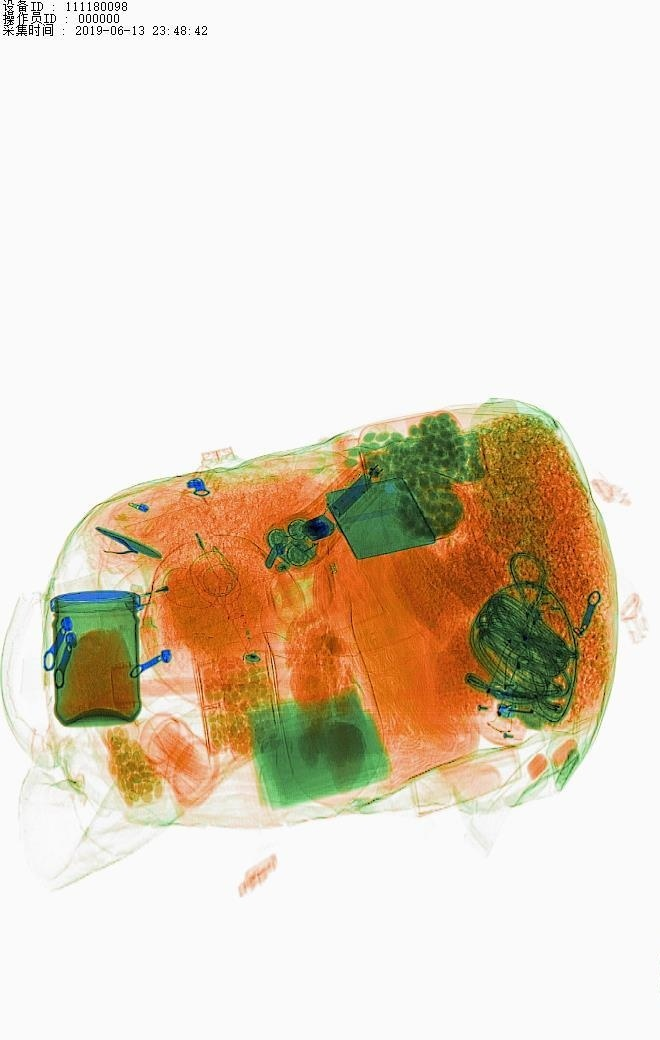NonmetallicFire: (119, 564, 228, 630)
